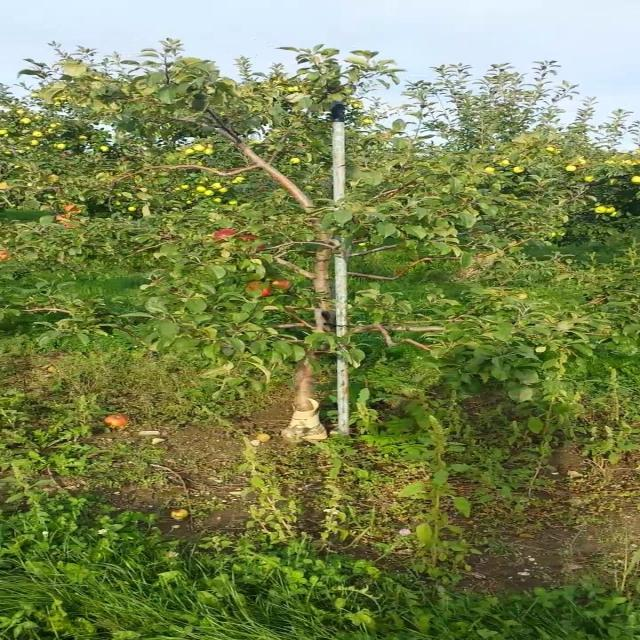apple: (248, 284, 272, 296), (63, 204, 84, 216), (56, 216, 76, 228), (212, 232, 235, 240), (276, 280, 292, 288), (255, 244, 268, 252), (241, 236, 258, 241)
